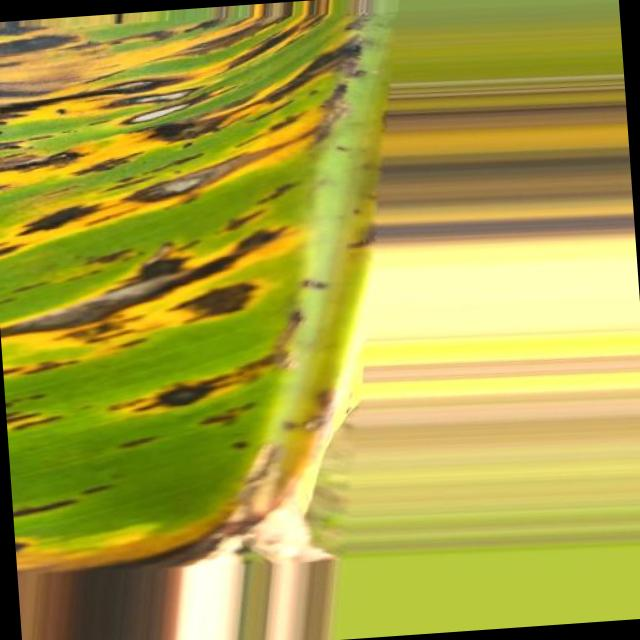Banana_Black_Sigatoka: (0, 3, 387, 267), (1, 245, 314, 465), (22, 466, 318, 604)
